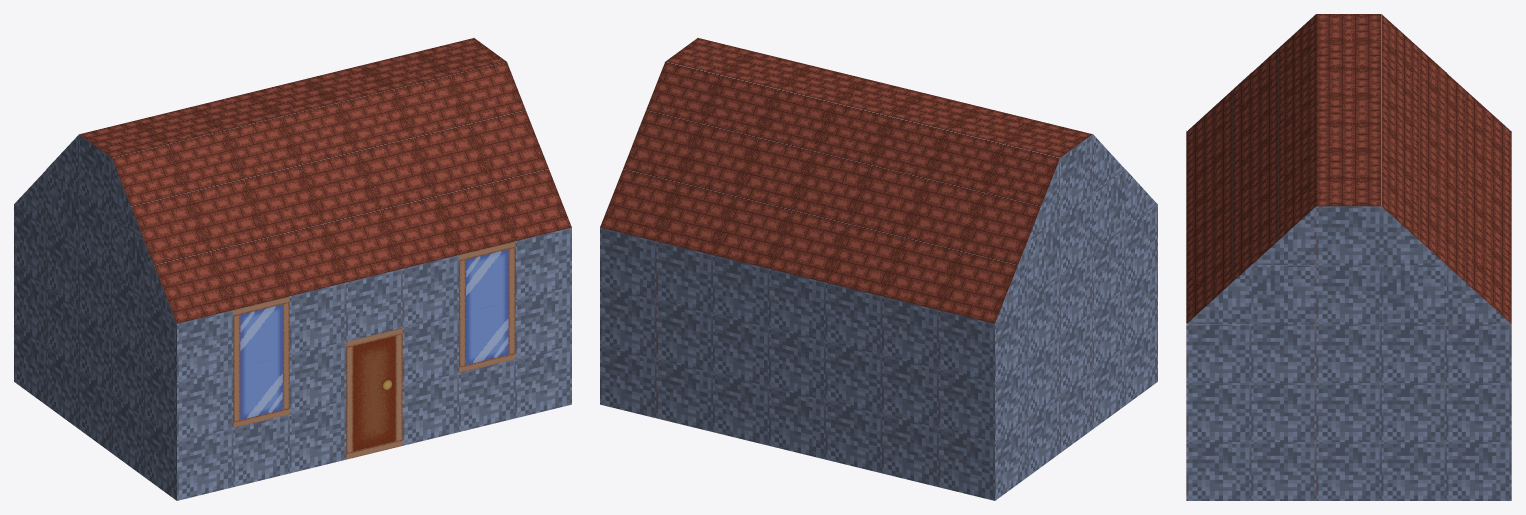
The model's file is house.dae.
3 views of the same model, side by side, from view 1: azimuth 30°, elevation 25°; view 2: azimuth 150°, elevation 25°; view 3: azimuth 270°, elevation 25° (orthographic).
Visible parts, largest first — view 1: Cube; view 2: Cube; view 3: Cube.
Boxes of the visible parts, x1=… form: Cube: x1=14, y1=38, x2=571, y2=500; Cube: x1=600, y1=38, x2=1157, y2=500; Cube: x1=1186, y1=14, x2=1511, y2=500.
Bounding box in the file's own units: 14 × 10 × 10.
1 material, 1 textured.
